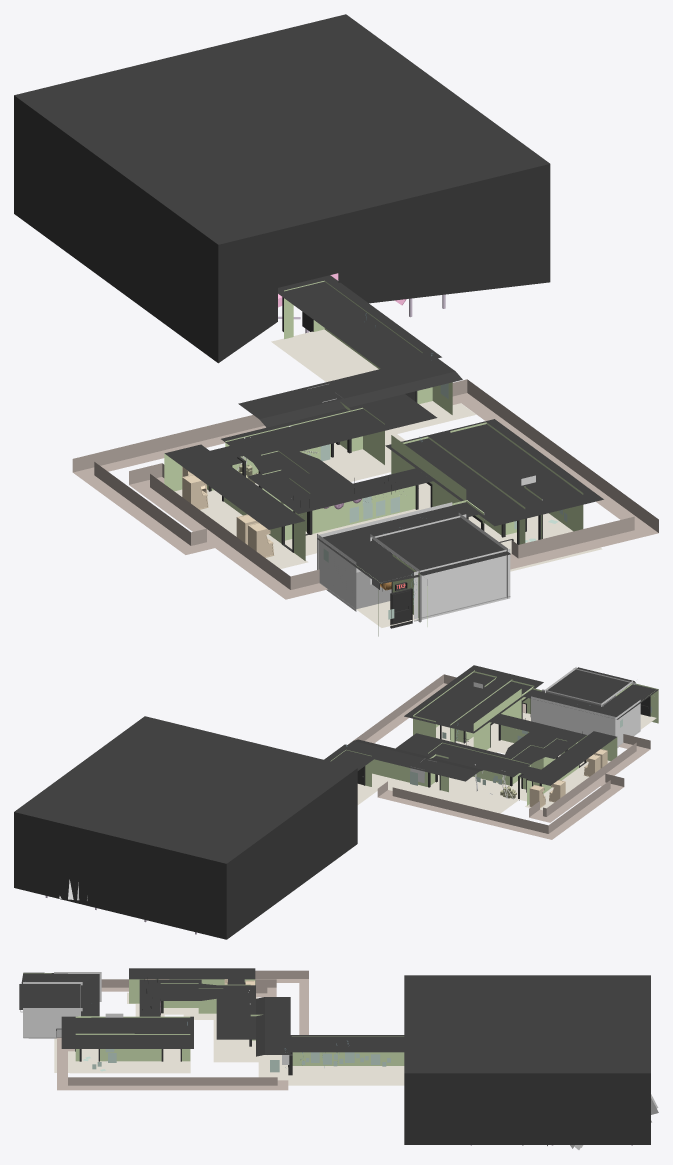
The model's file is FNaF 3.glb.
3 renders of one model, top to bottom at view 1: azimuth 30°, elevation 25°; view 2: azimuth 150°, elevation 25°; view 3: azimuth 270°, elevation 25°, orthographic. The views are drawn at different scales.
Parts seen in each view (by area): view 1: Circle.005; view 2: Circle.005; view 3: Circle.005.
Boxes of the visible parts, <box> form: Circle.005: <box>14,14,658,636</box>; Circle.005: <box>14,665,658,939</box>; Circle.005: <box>19,968,658,1149</box>.
Size of the model in its own units: 26.29 by 6.26 by 43.7.
